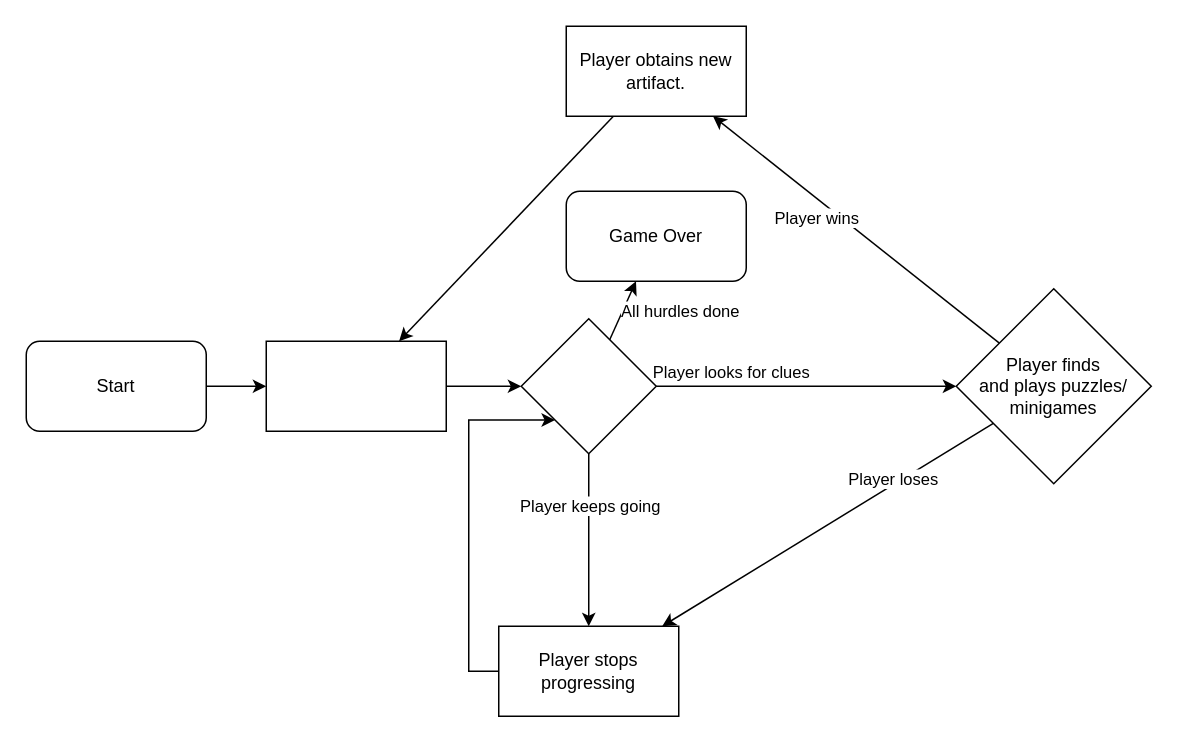
Some shapes in this 1178 by 743 pixel diagram are drawn without their labels. Here are the shapes that lost their labels. From the top down, the box of each, then its label:
(265, 340, 446, 431): Player progress through game
(520, 317, 656, 454): Player finds hurdles
